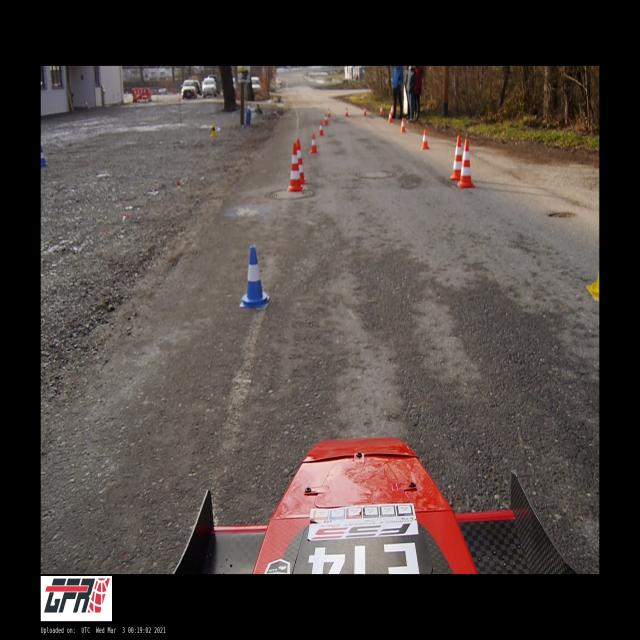blue_cone: (240, 245, 270, 308), (41, 146, 47, 166), (247, 100, 250, 110)
large_orange_cone: (288, 143, 304, 191), (458, 139, 474, 187), (451, 135, 465, 179), (297, 140, 306, 184)
orange_cone: (421, 130, 429, 150), (310, 135, 318, 153), (318, 121, 324, 136), (400, 118, 406, 132), (388, 111, 393, 122), (379, 106, 384, 116), (324, 114, 328, 125), (327, 108, 331, 117), (345, 108, 349, 116), (364, 106, 367, 116)
yellow_cone: (210, 122, 216, 136)
